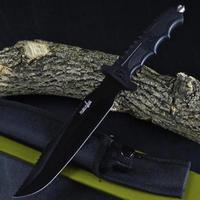knife: (10, 2, 180, 198)
